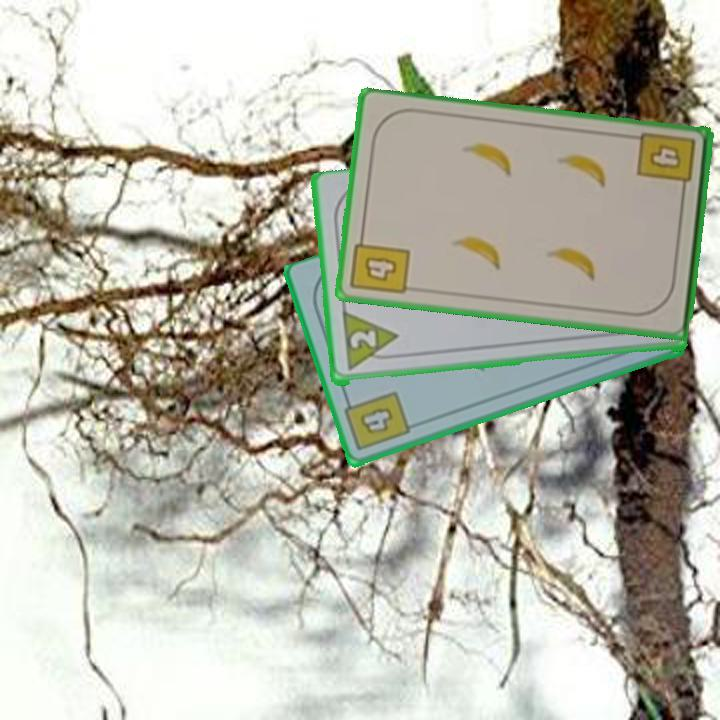2p: (338, 310, 402, 375)
4b: (340, 388, 414, 454), (347, 229, 413, 298), (634, 129, 699, 199)
